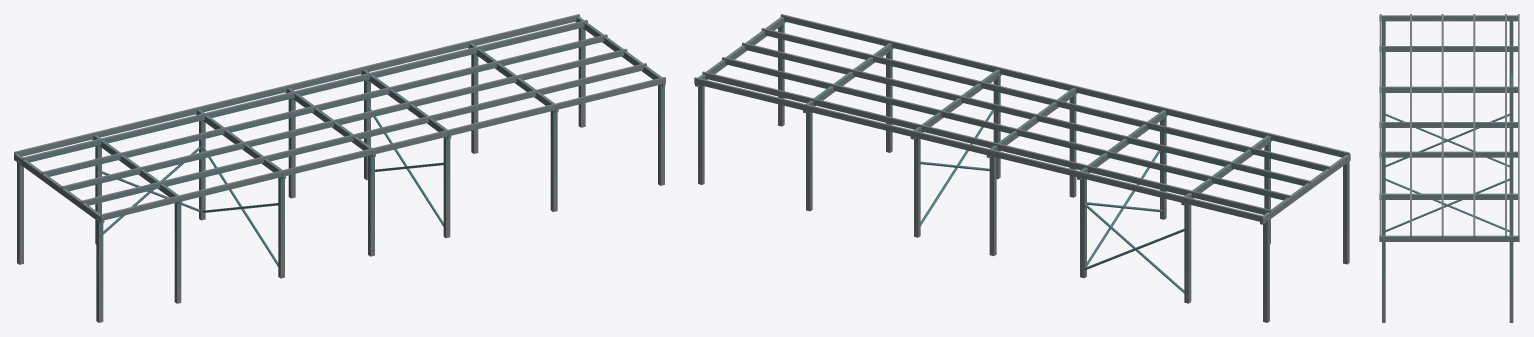
The picture shows the model from 3 angles, left to right: view 1: azimuth 30°, elevation 25°; view 2: azimuth 150°, elevation 25°; view 3: azimuth 270°, elevation 25°; orthographic projection. The views are drawn at different scales.
Parts seen in each view (by area): view 1: rail, rail.002, rail.003, rail.005, rail.001, rail.004, cross_beam, post, post.002, post.008, post.010, post.001 (+13 smaller); view 2: rail.005, rail.004, rail.003, rail.002, rail, rail.001, cross_beam, post.003, post.007, post, post.001, post.011 (+14 smaller); view 3: cross_beam.006, cross_beam.002, cross_beam.004, cross_beam.005, cross_beam, cross_beam.001, cross_beam.003, rail, rail.002, rail.003, rail.001, rail.004 (+17 smaller).
Part boxes in pixels (x1,y1,x2,y2): rail: (100, 77, 665, 220); rail.002: (61, 48, 627, 191); rail.003: (42, 34, 607, 176); rail.005: (14, 14, 579, 156); rail.001: (81, 63, 646, 205); rail.004: (22, 20, 587, 162); cross_beam: (14, 153, 104, 223); post: (96, 218, 103, 322); post.002: (174, 202, 181, 303); post.008: (443, 137, 450, 238); post.010: (550, 110, 557, 211); post.001: (17, 160, 23, 264); rail.005: (694, 77, 1263, 222); rail.004: (702, 71, 1271, 214); rail.003: (722, 57, 1291, 200); rail.002: (742, 42, 1310, 185); rail: (780, 14, 1349, 157); rail.001: (761, 28, 1330, 171); cross_beam: (1260, 154, 1350, 224); post.003: (1184, 204, 1191, 303); post.007: (989, 156, 996, 255); post: (1343, 159, 1349, 264); post.001: (1263, 218, 1269, 322); post.011: (806, 111, 812, 211); cross_beam.006: (1379, 235, 1519, 241); cross_beam.002: (1379, 86, 1517, 92); cross_beam.004: (1379, 151, 1517, 157); cross_beam.005: (1379, 193, 1517, 199); cross_beam: (1379, 15, 1517, 21); cross_beam.001: (1379, 46, 1517, 51); cross_beam.003: (1379, 122, 1517, 127); rail: (1379, 14, 1381, 240); rail.002: (1441, 14, 1443, 240); rail.003: (1473, 14, 1475, 240); rail.001: (1410, 14, 1411, 240); rail.004: (1505, 14, 1506, 240).
Size of the model in its own units: 11.98 by 2.19 by 3.2.
